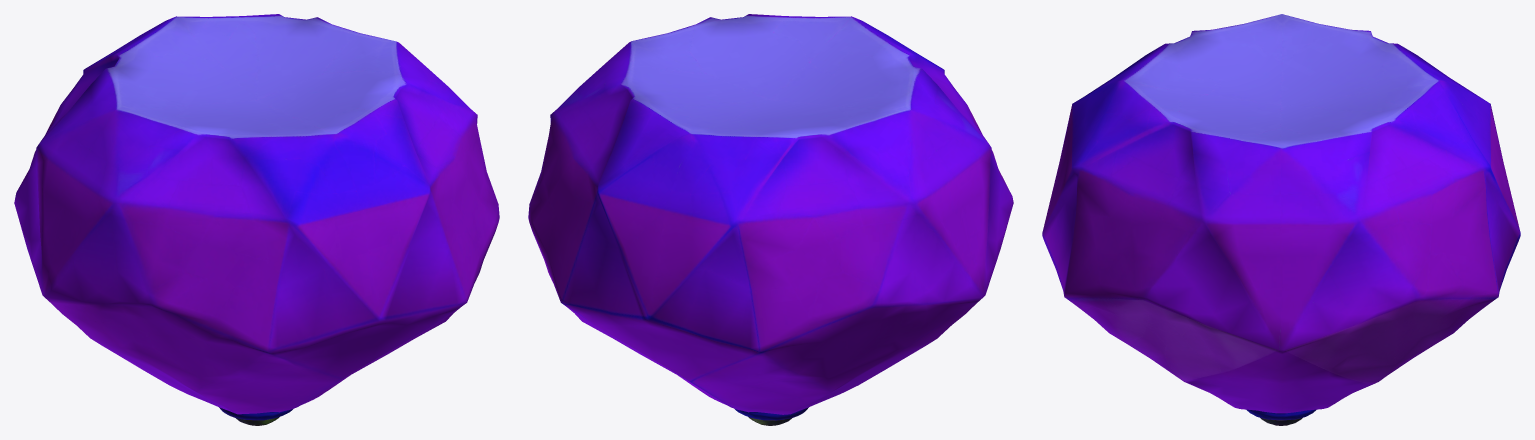
The model's file is amethyst_gem_single.obj.
The picture shows the model from 3 angles, left to right: view 1: azimuth 30°, elevation 25°; view 2: azimuth 150°, elevation 25°; view 3: azimuth 270°, elevation 25°; orthographic projection.
Parts seen in each view (by area): view 1: amethyst_gem_single; view 2: amethyst_gem_single; view 3: amethyst_gem_single.
Boxes of the visible parts, box(x1,y1,x2,y2) form: amethyst_gem_single: box(14, 14, 499, 425); amethyst_gem_single: box(528, 14, 1013, 425); amethyst_gem_single: box(1042, 14, 1520, 425).
Size of the model in its own units: 1.9 by 1.48 by 1.87.
Materials: 1 (1 with a texture image).
